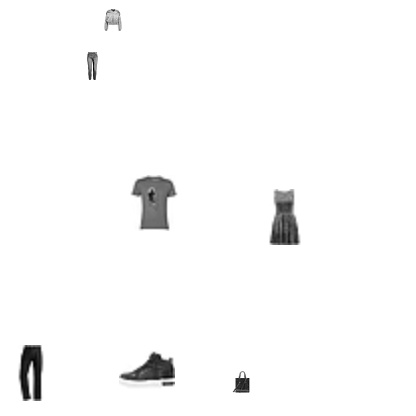Bag: (230, 371, 252, 393)
Coat: (102, 9, 124, 31)
Dress: (256, 189, 312, 245)
Sneaker: (119, 342, 175, 398)
T-shirt/top: (125, 175, 181, 231)
Trouser: (3, 345, 59, 401), (78, 52, 106, 80)
